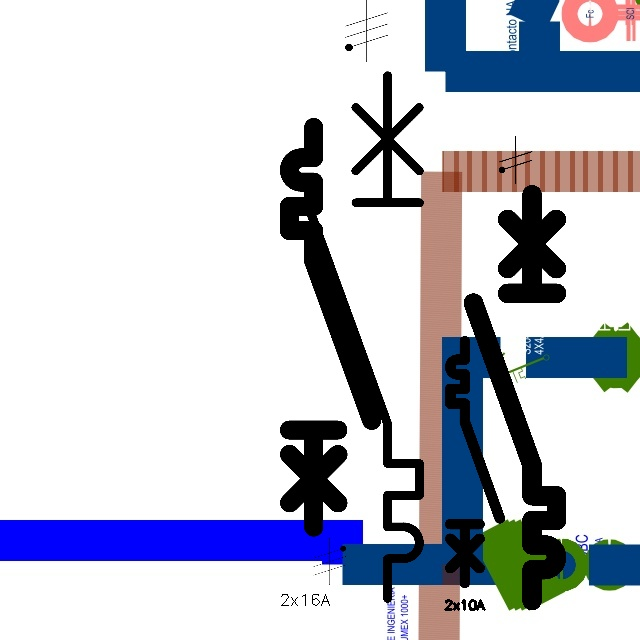interruptor_termomagnetico: (298, 62, 433, 612), (463, 184, 567, 611), (279, 117, 382, 538), (444, 335, 506, 589)
